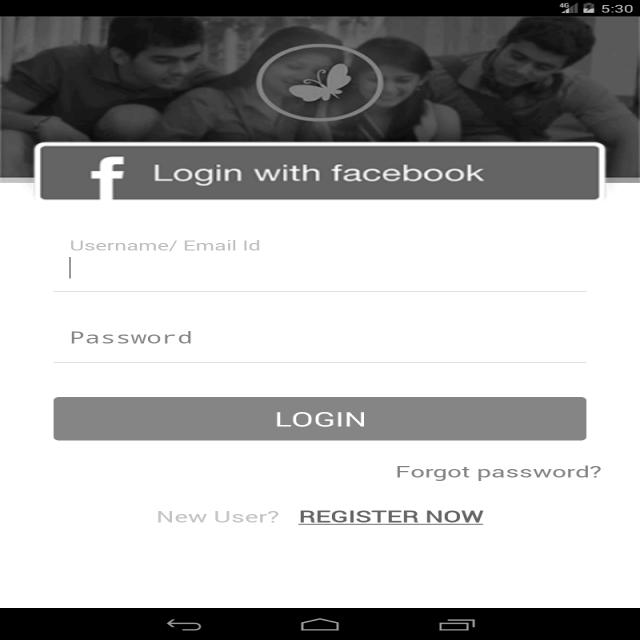Button: (33, 141, 610, 203), (48, 393, 588, 439)
EditText: (42, 238, 604, 298), (42, 321, 602, 367)
ImageView: (244, 49, 400, 123)
TextView: (390, 458, 610, 486), (297, 504, 492, 528), (142, 506, 286, 532)
